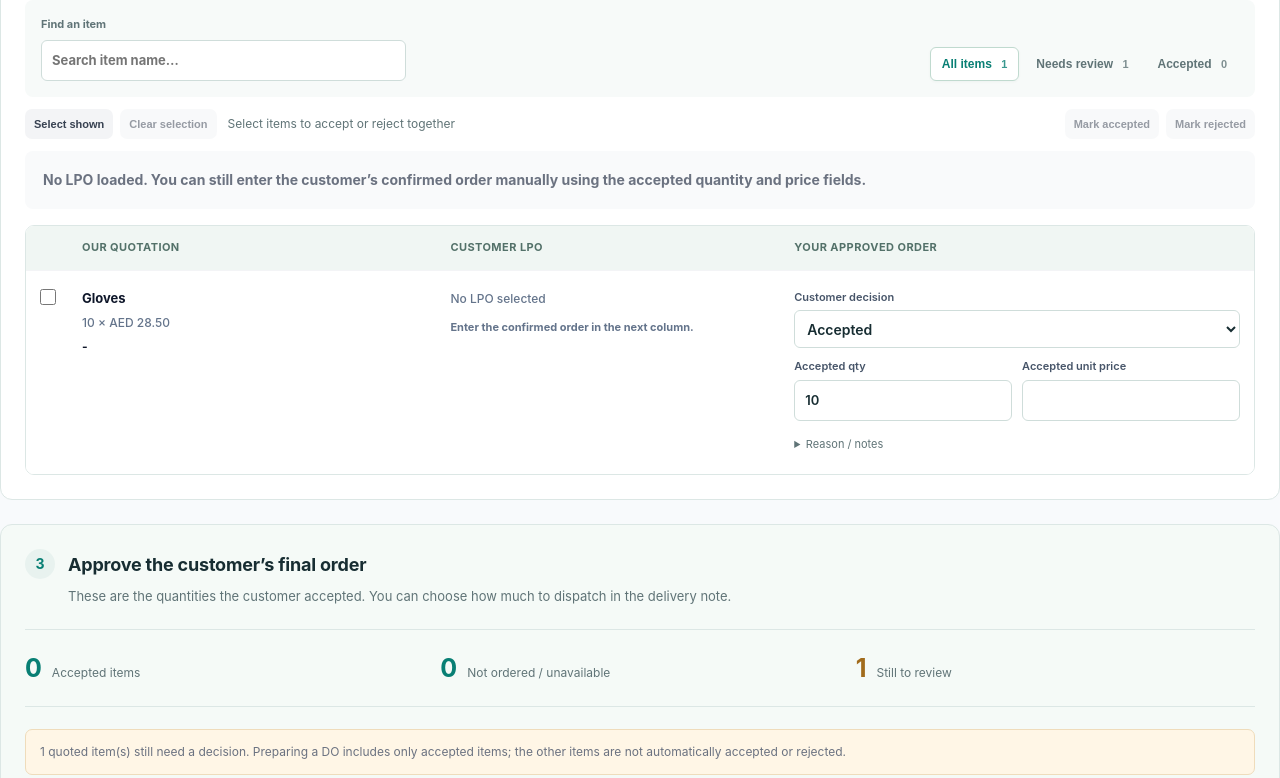
QuotationOutcomeReview Gmail approval › approval stays unavailable for an accepted item with incomplete quantities or price
The image size is (1280, 778).
(page scrolled)
Type "28.50" into the number field named "Accepted unit price for Gloves". click: x=1131, y=400
box: [1022,380,1240,421]
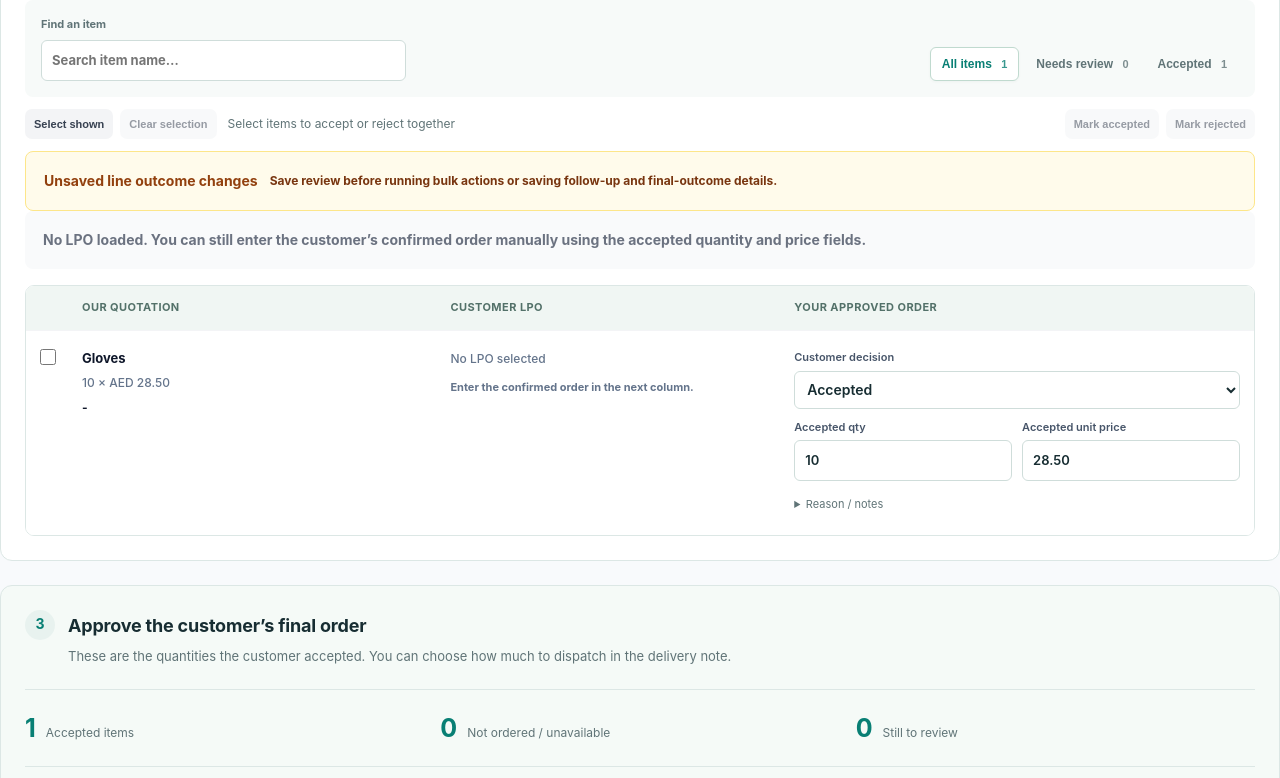
Replace the text in the number field named "Accepted quantity for Gloves" with "0". click: x=903, y=461
box: [794,440,1012,481]
(page scrolled)
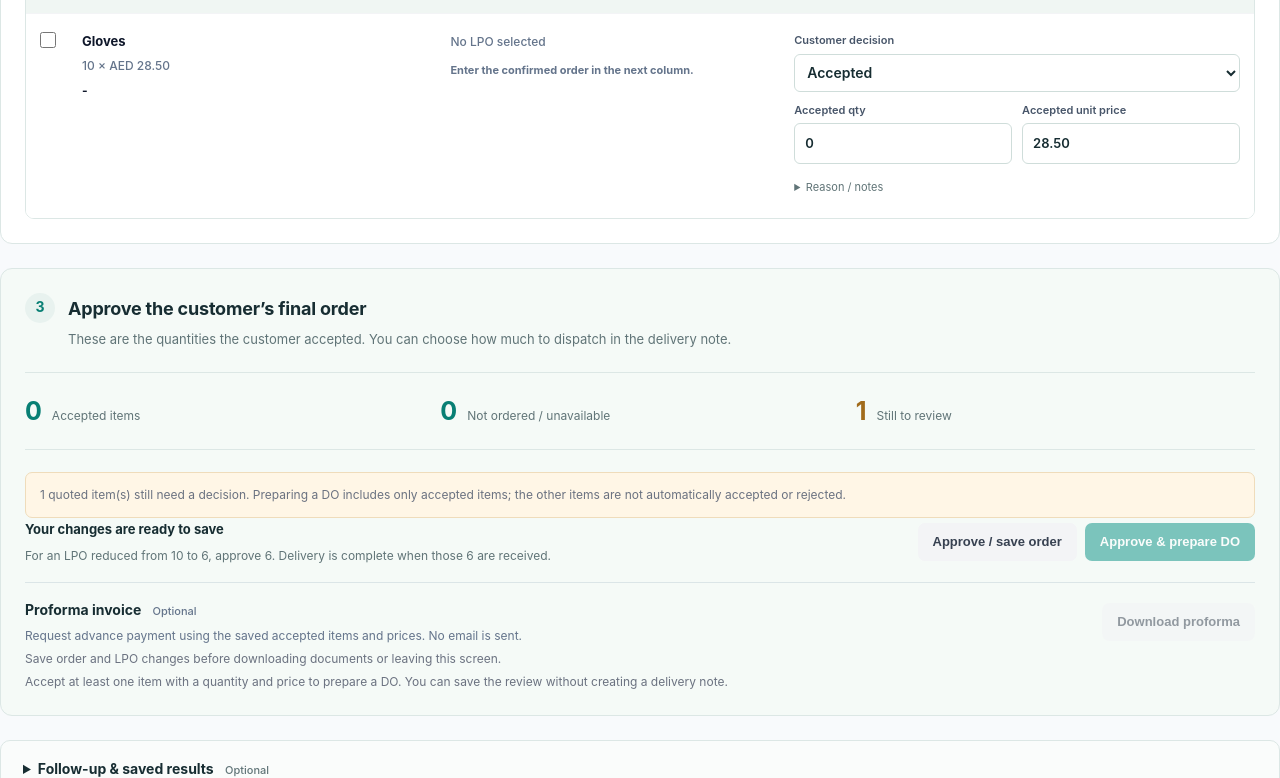
Expected: the button "Approve & prepare DO" is disabled, [1085,523,1255,561]
